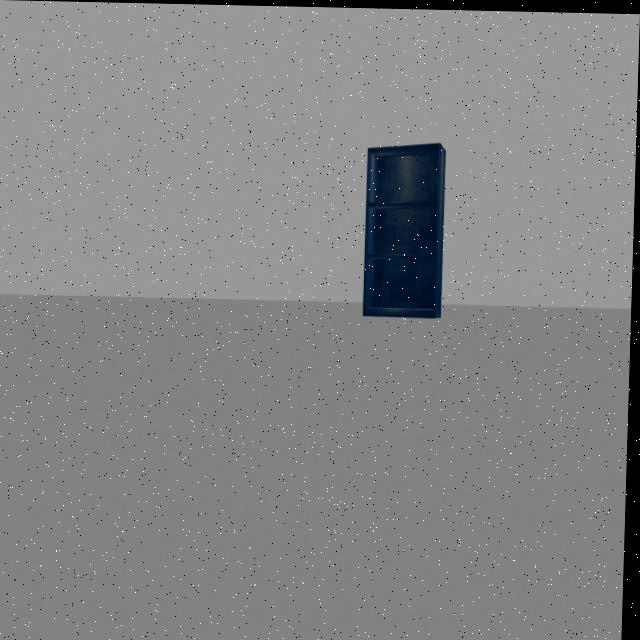shelf: (358, 127, 455, 328)
